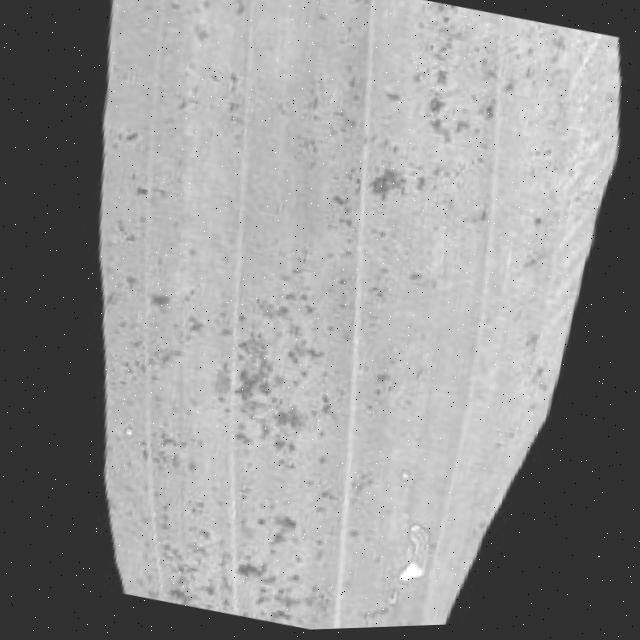mite: (120, 127, 143, 146)
spots: (15, 0, 639, 632)
